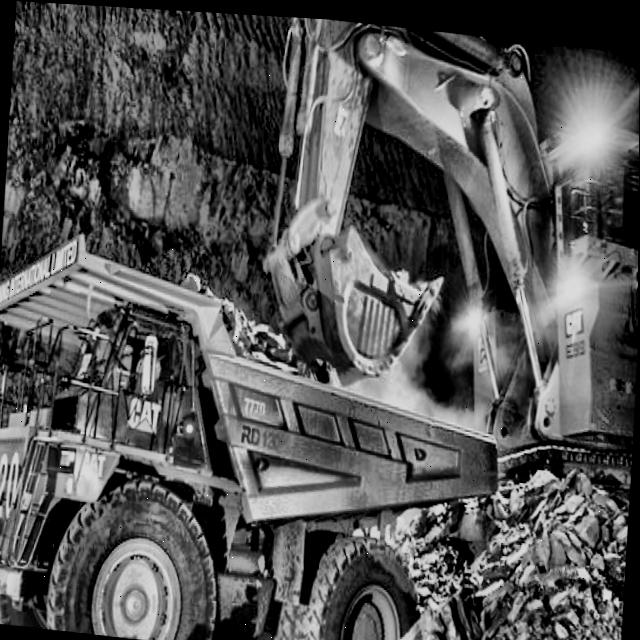dump_truck: (0, 230, 502, 640)
excavator: (250, 12, 640, 519)
